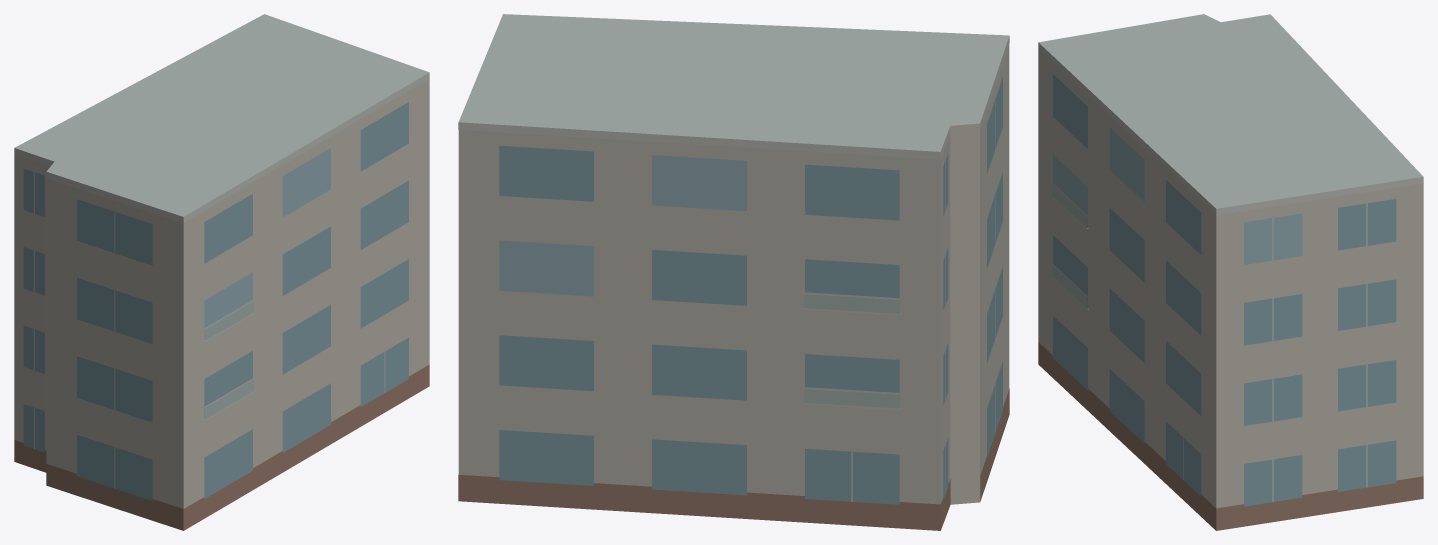
The model's file is survey-upis-32757831.glb.
3 views of the same model, side by side, from view 1: azimuth 30°, elevation 25°; view 2: azimuth 150°, elevation 25°; view 3: azimuth 270°, elevation 25° (orthographic). The views are drawn at different scales.
Parts seen in each view (by area): view 1: survey-upis-32757831.tmp; view 2: survey-upis-32757831.tmp; view 3: survey-upis-32757831.tmp.
Boxes of the visible parts, <box> form: survey-upis-32757831.tmp: <box>14,14,429,530</box>; survey-upis-32757831.tmp: <box>458,14,1009,530</box>; survey-upis-32757831.tmp: <box>1038,14,1423,530</box>.
Size of the model in its own units: 15.84 by 12.2 by 13.24.
